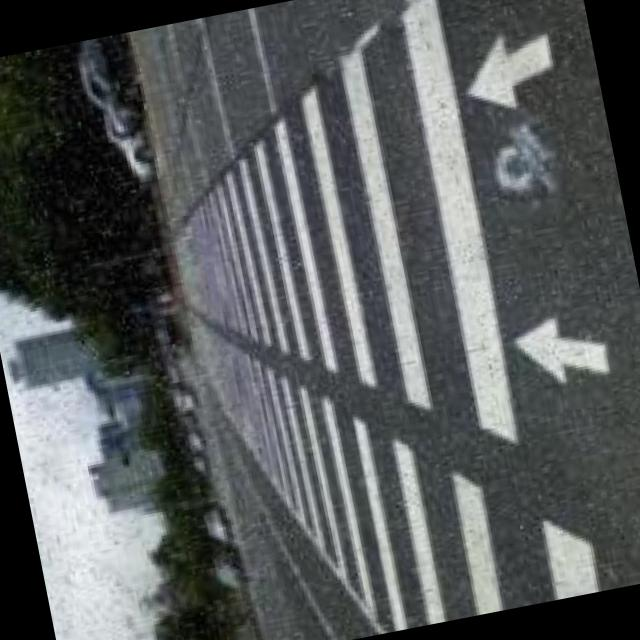zebra: (131, 0, 632, 640)
